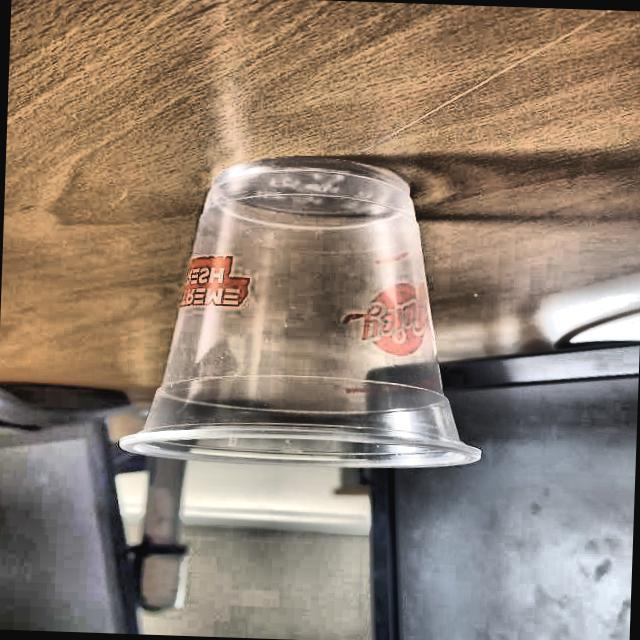plastic cup: (113, 150, 492, 477)
